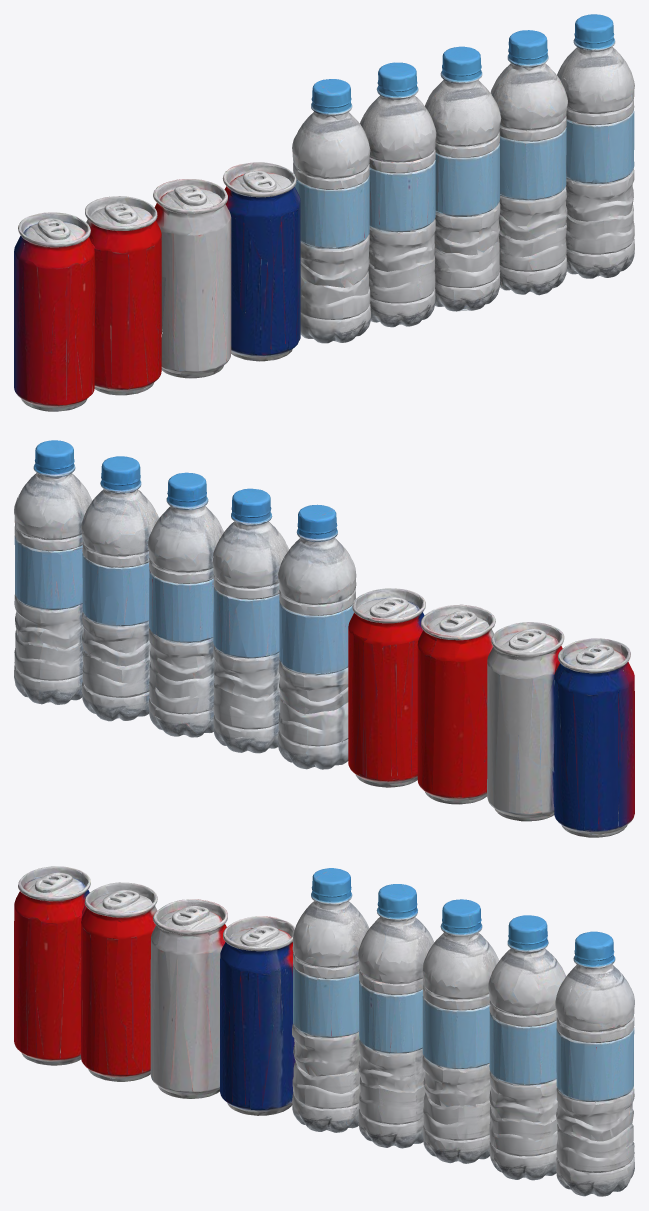
Rendered from e4drinks.glb.
The picture shows the model from 3 angles, top to bottom: view 1: azimuth 30°, elevation 25°; view 2: azimuth 150°, elevation 25°; view 3: azimuth 330°, elevation 25°; orthographic projection.
Parts seen in each view (by area): view 1: output_unwrapped; view 2: output_unwrapped; view 3: output_unwrapped.
Boxes of the visible parts, box(x1,y1,x2,y2) form: output_unwrapped: box(14, 14, 634, 411); output_unwrapped: box(14, 440, 634, 837); output_unwrapped: box(14, 866, 634, 1196).
Bounding box in the file's own units: 0.47 × 0.1813 × 0.054.
1 material, 1 textured.
